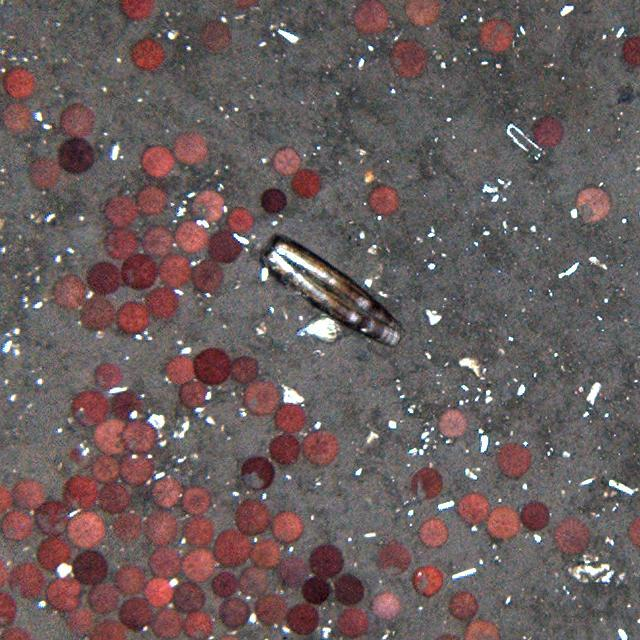whelk: (263, 233, 408, 349)
